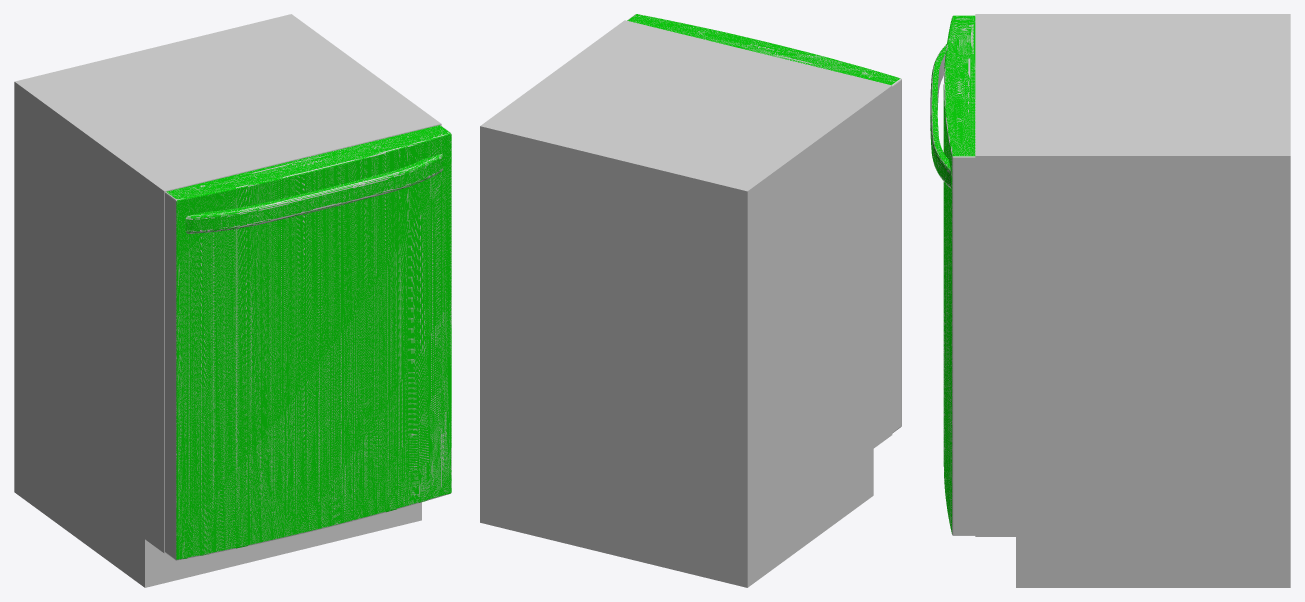
File: combined_separated.obj
The picture shows the model from 3 angles, left to right: view 1: azimuth 30°, elevation 25°; view 2: azimuth 150°, elevation 25°; view 3: azimuth 270°, elevation 25°; orthographic projection. The views are drawn at different scales.
Size of the model in its own units: 1.05 by 1.49 by 1.12.
